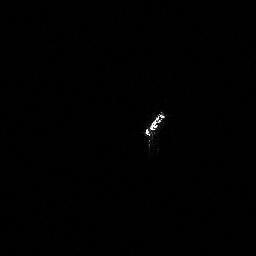ship: (139, 111, 165, 145)
